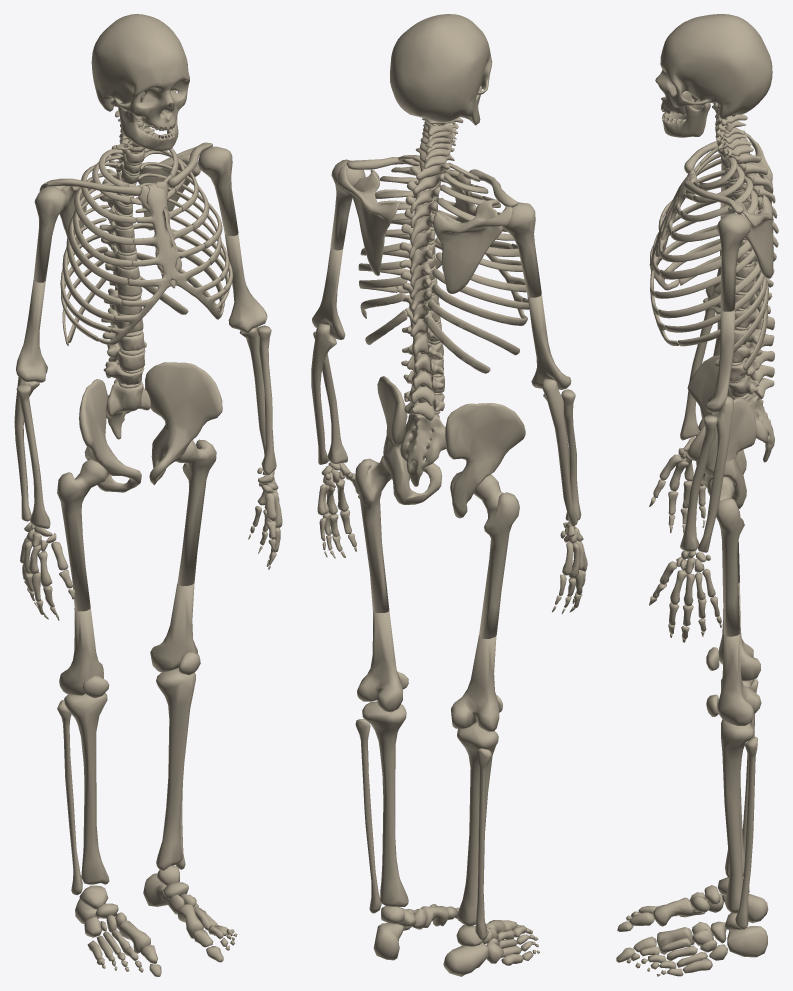
The model's file is pediatric_adolescent_male.skeletal.LOD1.glb.
3 views of the same model, side by side, from view 1: azimuth 30°, elevation 25°; view 2: azimuth 150°, elevation 25°; view 3: azimuth 270°, elevation 25° (orthographic). The views are drawn at different scales.
Visible parts, largest first — view 1: PEDIATRIC.ADOLESCENT.MALE.SKELETAL.RIBS_CORTICAL, PEDIATRIC.ADOLESCENT.MALE.SKELETAL.CRANIUM_CORTICAL, PEDIATRIC.ADOLESCENT.MALE.SKELETAL.PELVIS_CORTICAL, PEDIATRIC.ADOLESCENT.MALE.SKELETAL.TIBIAE_CORTICAL, PEDIATRIC.ADOLESCENT.MALE.SKELETAL.ANKLES_AND_FOOT_CORTICAL, PEDIATRIC.ADOLESCENT.MALE.SKELETAL.FEMORA_UPPER_CORTICAL, PEDIATRIC.ADOLESCENT.MALE.SKELETAL.CARTILAGE_TRUNK, PEDIATRIC.ADOLESCENT.MALE.SKELETAL.FEMORA_LOWER_CORTICAL, PEDIATRIC.ADOLESCENT.MALE.SKELETAL.WRISTS_AND_HAND_BONES_COR, PEDIATRIC.ADOLESCENT.MALE.SKELETAL.HUMERI_LOWER_CORTICAL, PEDIATRIC.ADOLESCENT.MALE.SKELETAL.HUMERI_UPPER_CORTICAL, PEDIATRIC.ADOLESCENT.MALE.SKELETAL.RADII_CORTICAL (+10 smaller); view 2: PEDIATRIC.ADOLESCENT.MALE.SKELETAL.RIBS_CORTICAL, PEDIATRIC.ADOLESCENT.MALE.SKELETAL.CRANIUM_CORTICAL, PEDIATRIC.ADOLESCENT.MALE.SKELETAL.PELVIS_CORTICAL, PEDIATRIC.ADOLESCENT.MALE.SKELETAL.TIBIAE_CORTICAL, PEDIATRIC.ADOLESCENT.MALE.SKELETAL.FEMORA_UPPER_CORTICAL, PEDIATRIC.ADOLESCENT.MALE.SKELETAL.SCAPULAE_CORTICAL, PEDIATRIC.ADOLESCENT.MALE.SKELETAL.ANKLES_AND_FOOT_CORTICAL, PEDIATRIC.ADOLESCENT.MALE.SKELETAL.FEMORA_LOWER_CORTICAL, PEDIATRIC.ADOLESCENT.MALE.SKELETAL.THORACIC_SPINE_CORTICAL, PEDIATRIC.ADOLESCENT.MALE.SKELETAL.WRISTS_AND_HAND_BONES_COR, PEDIATRIC.ADOLESCENT.MALE.SKELETAL.ULNAE_CORTICAL, PEDIATRIC.ADOLESCENT.MALE.SKELETAL.HUMERI_UPPER_CORTICAL (+8 smaller); view 3: PEDIATRIC.ADOLESCENT.MALE.SKELETAL.CRANIUM_CORTICAL, PEDIATRIC.ADOLESCENT.MALE.SKELETAL.RIBS_CORTICAL, PEDIATRIC.ADOLESCENT.MALE.SKELETAL.ANKLES_AND_FOOT_CORTICAL, PEDIATRIC.ADOLESCENT.MALE.SKELETAL.WRISTS_AND_HAND_BONES_COR, PEDIATRIC.ADOLESCENT.MALE.SKELETAL.PELVIS_CORTICAL, PEDIATRIC.ADOLESCENT.MALE.SKELETAL.TIBIAE_CORTICAL, PEDIATRIC.ADOLESCENT.MALE.SKELETAL.FEMORA_LOWER_CORTICAL, PEDIATRIC.ADOLESCENT.MALE.SKELETAL.FEMORA_UPPER_CORTICAL, PEDIATRIC.ADOLESCENT.MALE.SKELETAL.RADII_CORTICAL, PEDIATRIC.ADOLESCENT.MALE.SKELETAL.LUMBAR_SPINE_CORTICAL, PEDIATRIC.ADOLESCENT.MALE.SKELETAL.THORACIC_SPINE_CORTICAL, PEDIATRIC.ADOLESCENT.MALE.SKELETAL.CARTILAGE_TRUNK (+10 smaller).
Part boxes in pixels (x1,y1,x2,y2): PEDIATRIC.ADOLESCENT.MALE.SKELETAL.RIBS_CORTICAL: [60, 148, 232, 345]; PEDIATRIC.ADOLESCENT.MALE.SKELETAL.CRANIUM_CORTICAL: [91, 14, 189, 130]; PEDIATRIC.ADOLESCENT.MALE.SKELETAL.PELVIS_CORTICAL: [79, 362, 222, 492]; PEDIATRIC.ADOLESCENT.MALE.SKELETAL.TIBIAE_CORTICAL: [64, 668, 195, 884]; PEDIATRIC.ADOLESCENT.MALE.SKELETAL.ANKLES_AND_FOOT_CORTICAL: [75, 865, 237, 976]; PEDIATRIC.ADOLESCENT.MALE.SKELETAL.FEMORA_UPPER_CORTICAL: [57, 439, 216, 611]; PEDIATRIC.ADOLESCENT.MALE.SKELETAL.CARTILAGE_TRUNK: [97, 119, 225, 388]; PEDIATRIC.ADOLESCENT.MALE.SKELETAL.FEMORA_LOWER_CORTICAL: [59, 583, 197, 695]; PEDIATRIC.ADOLESCENT.MALE.SKELETAL.WRISTS_AND_HAND_BONES_COR: [20, 467, 282, 620]; PEDIATRIC.ADOLESCENT.MALE.SKELETAL.HUMERI_LOWER_CORTICAL: [16, 234, 267, 382]; PEDIATRIC.ADOLESCENT.MALE.SKELETAL.HUMERI_UPPER_CORTICAL: [33, 146, 238, 282]; PEDIATRIC.ADOLESCENT.MALE.SKELETAL.RADII_CORTICAL: [16, 325, 276, 528]; PEDIATRIC.ADOLESCENT.MALE.SKELETAL.RIBS_CORTICAL: [358, 155, 529, 373]; PEDIATRIC.ADOLESCENT.MALE.SKELETAL.CRANIUM_CORTICAL: [390, 14, 492, 122]; PEDIATRIC.ADOLESCENT.MALE.SKELETAL.PELVIS_CORTICAL: [377, 376, 525, 518]; PEDIATRIC.ADOLESCENT.MALE.SKELETAL.TIBIAE_CORTICAL: [362, 701, 498, 926]; PEDIATRIC.ADOLESCENT.MALE.SKELETAL.FEMORA_UPPER_CORTICAL: [355, 455, 519, 638]; PEDIATRIC.ADOLESCENT.MALE.SKELETAL.SCAPULAE_CORTICAL: [337, 165, 512, 293]; PEDIATRIC.ADOLESCENT.MALE.SKELETAL.ANKLES_AND_FOOT_CORTICAL: [373, 904, 539, 976]; PEDIATRIC.ADOLESCENT.MALE.SKELETAL.FEMORA_LOWER_CORTICAL: [357, 611, 499, 731]; PEDIATRIC.ADOLESCENT.MALE.SKELETAL.THORACIC_SPINE_CORTICAL: [399, 156, 449, 336]; PEDIATRIC.ADOLESCENT.MALE.SKELETAL.WRISTS_AND_HAND_BONES_COR: [317, 462, 587, 614]; PEDIATRIC.ADOLESCENT.MALE.SKELETAL.ULNAE_CORTICAL: [311, 324, 577, 526]; PEDIATRIC.ADOLESCENT.MALE.SKELETAL.HUMERI_UPPER_CORTICAL: [330, 159, 541, 297]; PEDIATRIC.ADOLESCENT.MALE.SKELETAL.CRANIUM_CORTICAL: [655, 14, 772, 119]; PEDIATRIC.ADOLESCENT.MALE.SKELETAL.RIBS_CORTICAL: [654, 146, 768, 370]; PEDIATRIC.ADOLESCENT.MALE.SKELETAL.ANKLES_AND_FOOT_CORTICAL: [616, 877, 768, 976]; PEDIATRIC.ADOLESCENT.MALE.SKELETAL.WRISTS_AND_HAND_BONES_COR: [649, 436, 721, 642]; PEDIATRIC.ADOLESCENT.MALE.SKELETAL.PELVIS_CORTICAL: [687, 355, 756, 508]; PEDIATRIC.ADOLESCENT.MALE.SKELETAL.TIBIAE_CORTICAL: [721, 678, 754, 913]; PEDIATRIC.ADOLESCENT.MALE.SKELETAL.FEMORA_LOWER_CORTICAL: [717, 582, 761, 725]; PEDIATRIC.ADOLESCENT.MALE.SKELETAL.FEMORA_UPPER_CORTICAL: [707, 476, 744, 636]; PEDIATRIC.ADOLESCENT.MALE.SKELETAL.RADII_CORTICAL: [680, 297, 717, 551]; PEDIATRIC.ADOLESCENT.MALE.SKELETAL.LUMBAR_SPINE_CORTICAL: [728, 305, 774, 399]; PEDIATRIC.ADOLESCENT.MALE.SKELETAL.THORACIC_SPINE_CORTICAL: [721, 153, 778, 313]; PEDIATRIC.ADOLESCENT.MALE.SKELETAL.CARTILAGE_TRUNK: [650, 118, 751, 399].
Size of the model in its own units: 0.4791 by 1.66 by 0.2624.
